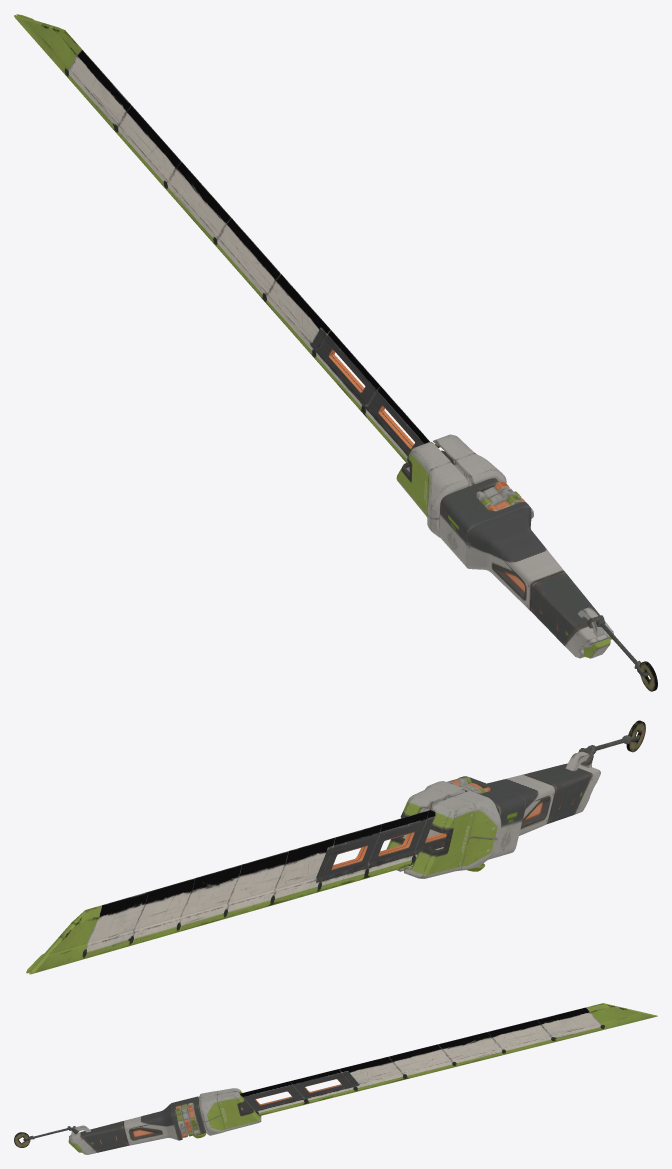
The picture shows the model from 3 angles, top to bottom: view 1: azimuth 30°, elevation 25°; view 2: azimuth 150°, elevation 25°; view 3: azimuth 270°, elevation 25°; orthographic projection. The views are drawn at different scales.
Visible parts, largest first — view 1: body_0_crypto_heirloom_crypto_heirloom_0; view 2: body_0_crypto_heirloom_crypto_heirloom_0; view 3: body_0_crypto_heirloom_crypto_heirloom_0.
Part boxes in pixels (x1,y1,x2,y2): body_0_crypto_heirloom_crypto_heirloom_0: [14, 14, 657, 691]; body_0_crypto_heirloom_crypto_heirloom_0: [26, 720, 645, 974]; body_0_crypto_heirloom_crypto_heirloom_0: [14, 1003, 657, 1154].
Bounding box in the file's own units: 2.87 × 9.25 × 37.95.
Materials: 1 (1 with a texture image).
